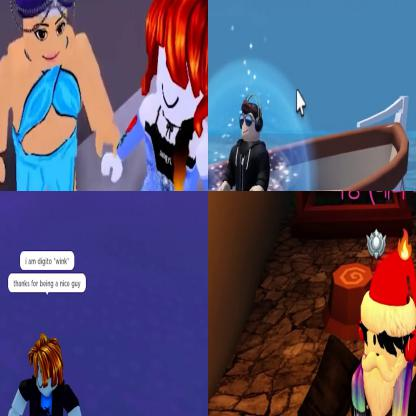Roblox-Avatar: (1, 1, 122, 191), (102, 1, 208, 191), (298, 250, 416, 416), (9, 332, 89, 416), (217, 94, 272, 191)
